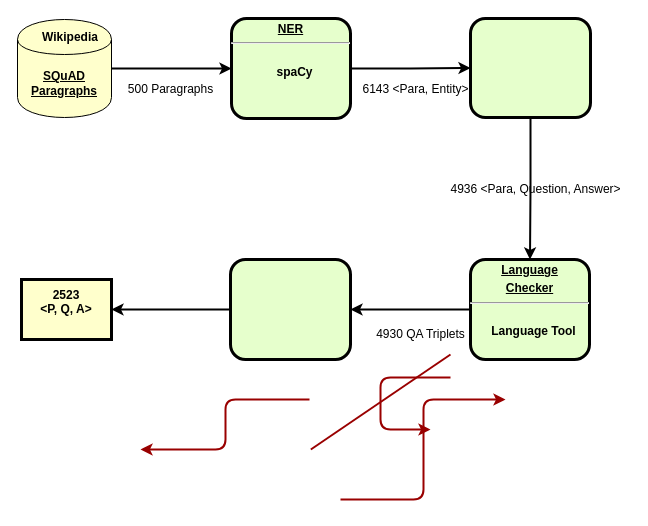
Image size: 648x526. Some labels were removed from this diagram. Here are the shapes that lost their labels. From the top down, the centre of each, then its label:
the point at 530,67: Question Generation uniLM
the point at 290,309: Question Filter Baseline QA (Logistic Regression)
